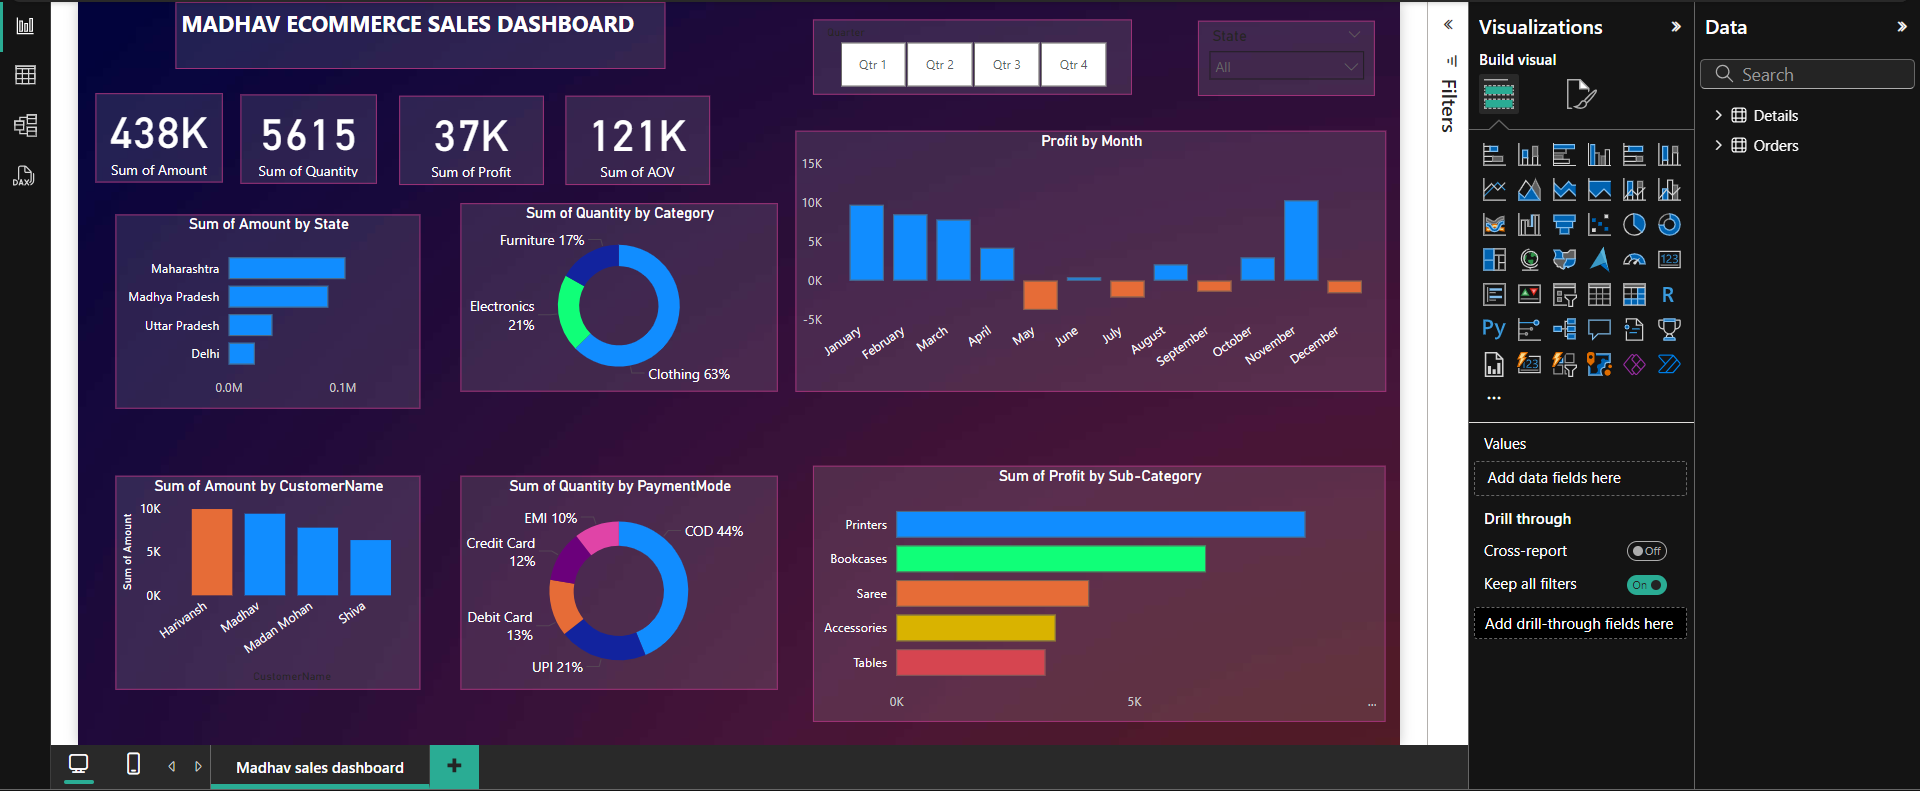

What the dashboard file says about the page in this screenshot:
{"tool":"powerbi","page":{"name":"Madhav sales dashboard","canvas":[1280,720],"ordinal":0},"visuals":[{"type":"textbox","box":[94.7,0,474.8,64.5],"z":0},{"type":"columnChart","title":"Profit by Month","fields":{"Y":["Sum(Details.Profit)"],"Category":["Orders.Order Date.Variation.Date Hierarchy.Month"]},"box":[694.3,124.9,572.2,252.5],"z":1000},{"type":"barChart","fields":{"Category":["Details.Sub-Category"],"Y":["Sum(Details.Profit)"]},"box":[711.8,449.1,554.4,248.2],"z":2000},{"type":"donutChart","fields":{"Category":["Details.Category"],"Y":["Sum(Details.Quantity)"]},"box":[370.5,194.9,307.4,182.5],"z":3000},{"type":"donutChart","fields":{"Y":["Sum(Details.Quantity)"],"Category":["Details.PaymentMode"]},"box":[370.4,458.8,307.5,207],"z":4000},{"type":"card","fields":{"Values":["Sum(Details.Amount)"]},"box":[16.5,87.8,123.5,86.4],"z":5000},{"type":"card","fields":{"Values":["Sum(Details.Quantity)"]},"box":[157.8,89.2,131.7,86.4],"z":6000},{"type":"card","fields":{"Values":["Sum(Details.Profit)"]},"box":[311.5,90.6,140,86.4],"z":7000},{"type":"card","fields":{"Values":["Sum(Details.AOV)"]},"box":[472,90.6,140,86.4],"z":8000},{"type":"barChart","fields":{"Category":["Orders.State"],"Y":["Sum(Details.Amount)"]},"box":[36.3,205.8,295.4,187.6],"z":9000},{"type":"columnChart","fields":{"Category":["Orders.CustomerName"],"Y":["Sum(Details.Amount)"]},"box":[36.3,458.8,295.4,207],"z":10000},{"type":"slicer","fields":{"Values":["Orders.Order Date.Variation.Date Hierarchy.Quarter"]},"box":[712.2,16.5,308.7,72.7],"z":11000},{"type":"slicer","fields":{"Values":["Orders.State"]},"box":[1084.1,17.8,171.5,72.7],"z":12000}]}

Visuals, with their boxes on the page's 1280x720 design canvas (x1, y1, x2, y2). These are canvas units, not pixel positions in the 1920x791 screenshot, which may show the page scaled, cropped or inside an application window:
textbox: <region>95, 0, 570, 64</region>
"Profit by Month" columnChart: <region>694, 125, 1266, 377</region>
barChart - Details.Sub-Category x Sum(Details.Profit): <region>712, 449, 1266, 697</region>
donutChart - Details.Category x Sum(Details.Quantity): <region>370, 195, 678, 377</region>
donutChart - Sum(Details.Quantity) x Details.PaymentMode: <region>370, 459, 678, 666</region>
card - Sum(Details.Amount): <region>16, 88, 140, 174</region>
card - Sum(Details.Quantity): <region>158, 89, 290, 176</region>
card - Sum(Details.Profit): <region>312, 91, 452, 177</region>
card - Sum(Details.AOV): <region>472, 91, 612, 177</region>
barChart - Orders.State x Sum(Details.Amount): <region>36, 206, 332, 393</region>
columnChart - Orders.CustomerName x Sum(Details.Amount): <region>36, 459, 332, 666</region>
slicer - Orders.Order Date.Variation.Date Hierarchy.Quarter: <region>712, 16, 1021, 89</region>
slicer - Orders.State: <region>1084, 18, 1256, 90</region>
